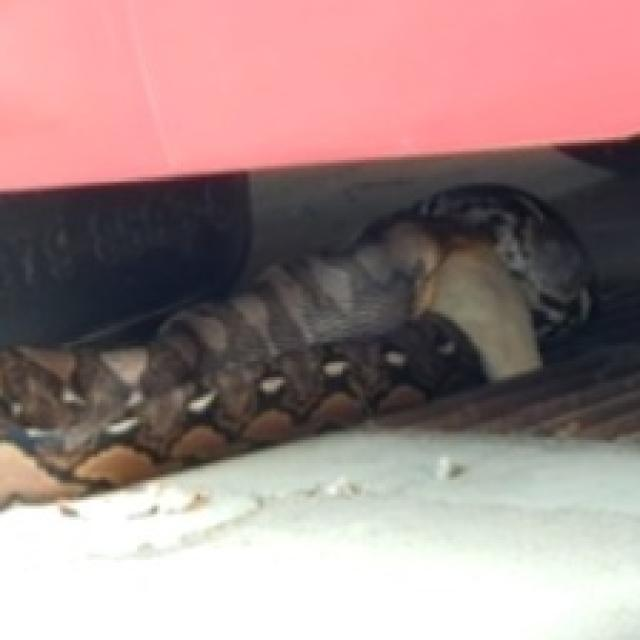reticulated python: (0, 183, 591, 503)
